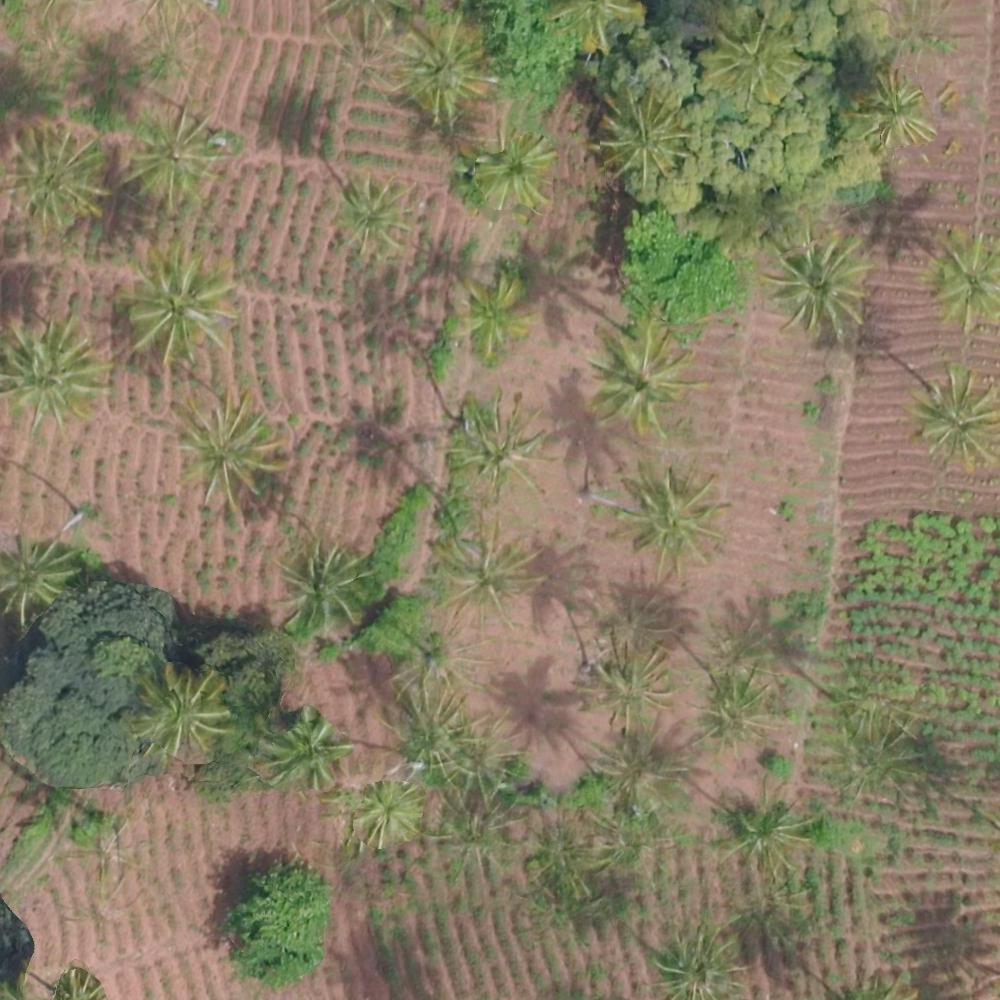Palm: (172, 397, 276, 509), (125, 251, 233, 358), (448, 397, 551, 502), (613, 465, 720, 565), (2, 322, 101, 429), (768, 225, 867, 327), (592, 329, 691, 424), (5, 131, 103, 226), (704, 6, 804, 95), (403, 23, 494, 119), (137, 659, 230, 751), (277, 536, 367, 631), (597, 91, 691, 178), (911, 373, 997, 467), (132, 113, 221, 200), (649, 918, 740, 997), (925, 231, 1000, 324), (335, 175, 416, 257), (479, 134, 557, 217), (851, 69, 931, 149), (265, 709, 340, 782), (1, 538, 70, 617), (449, 278, 528, 346), (347, 774, 418, 845)
